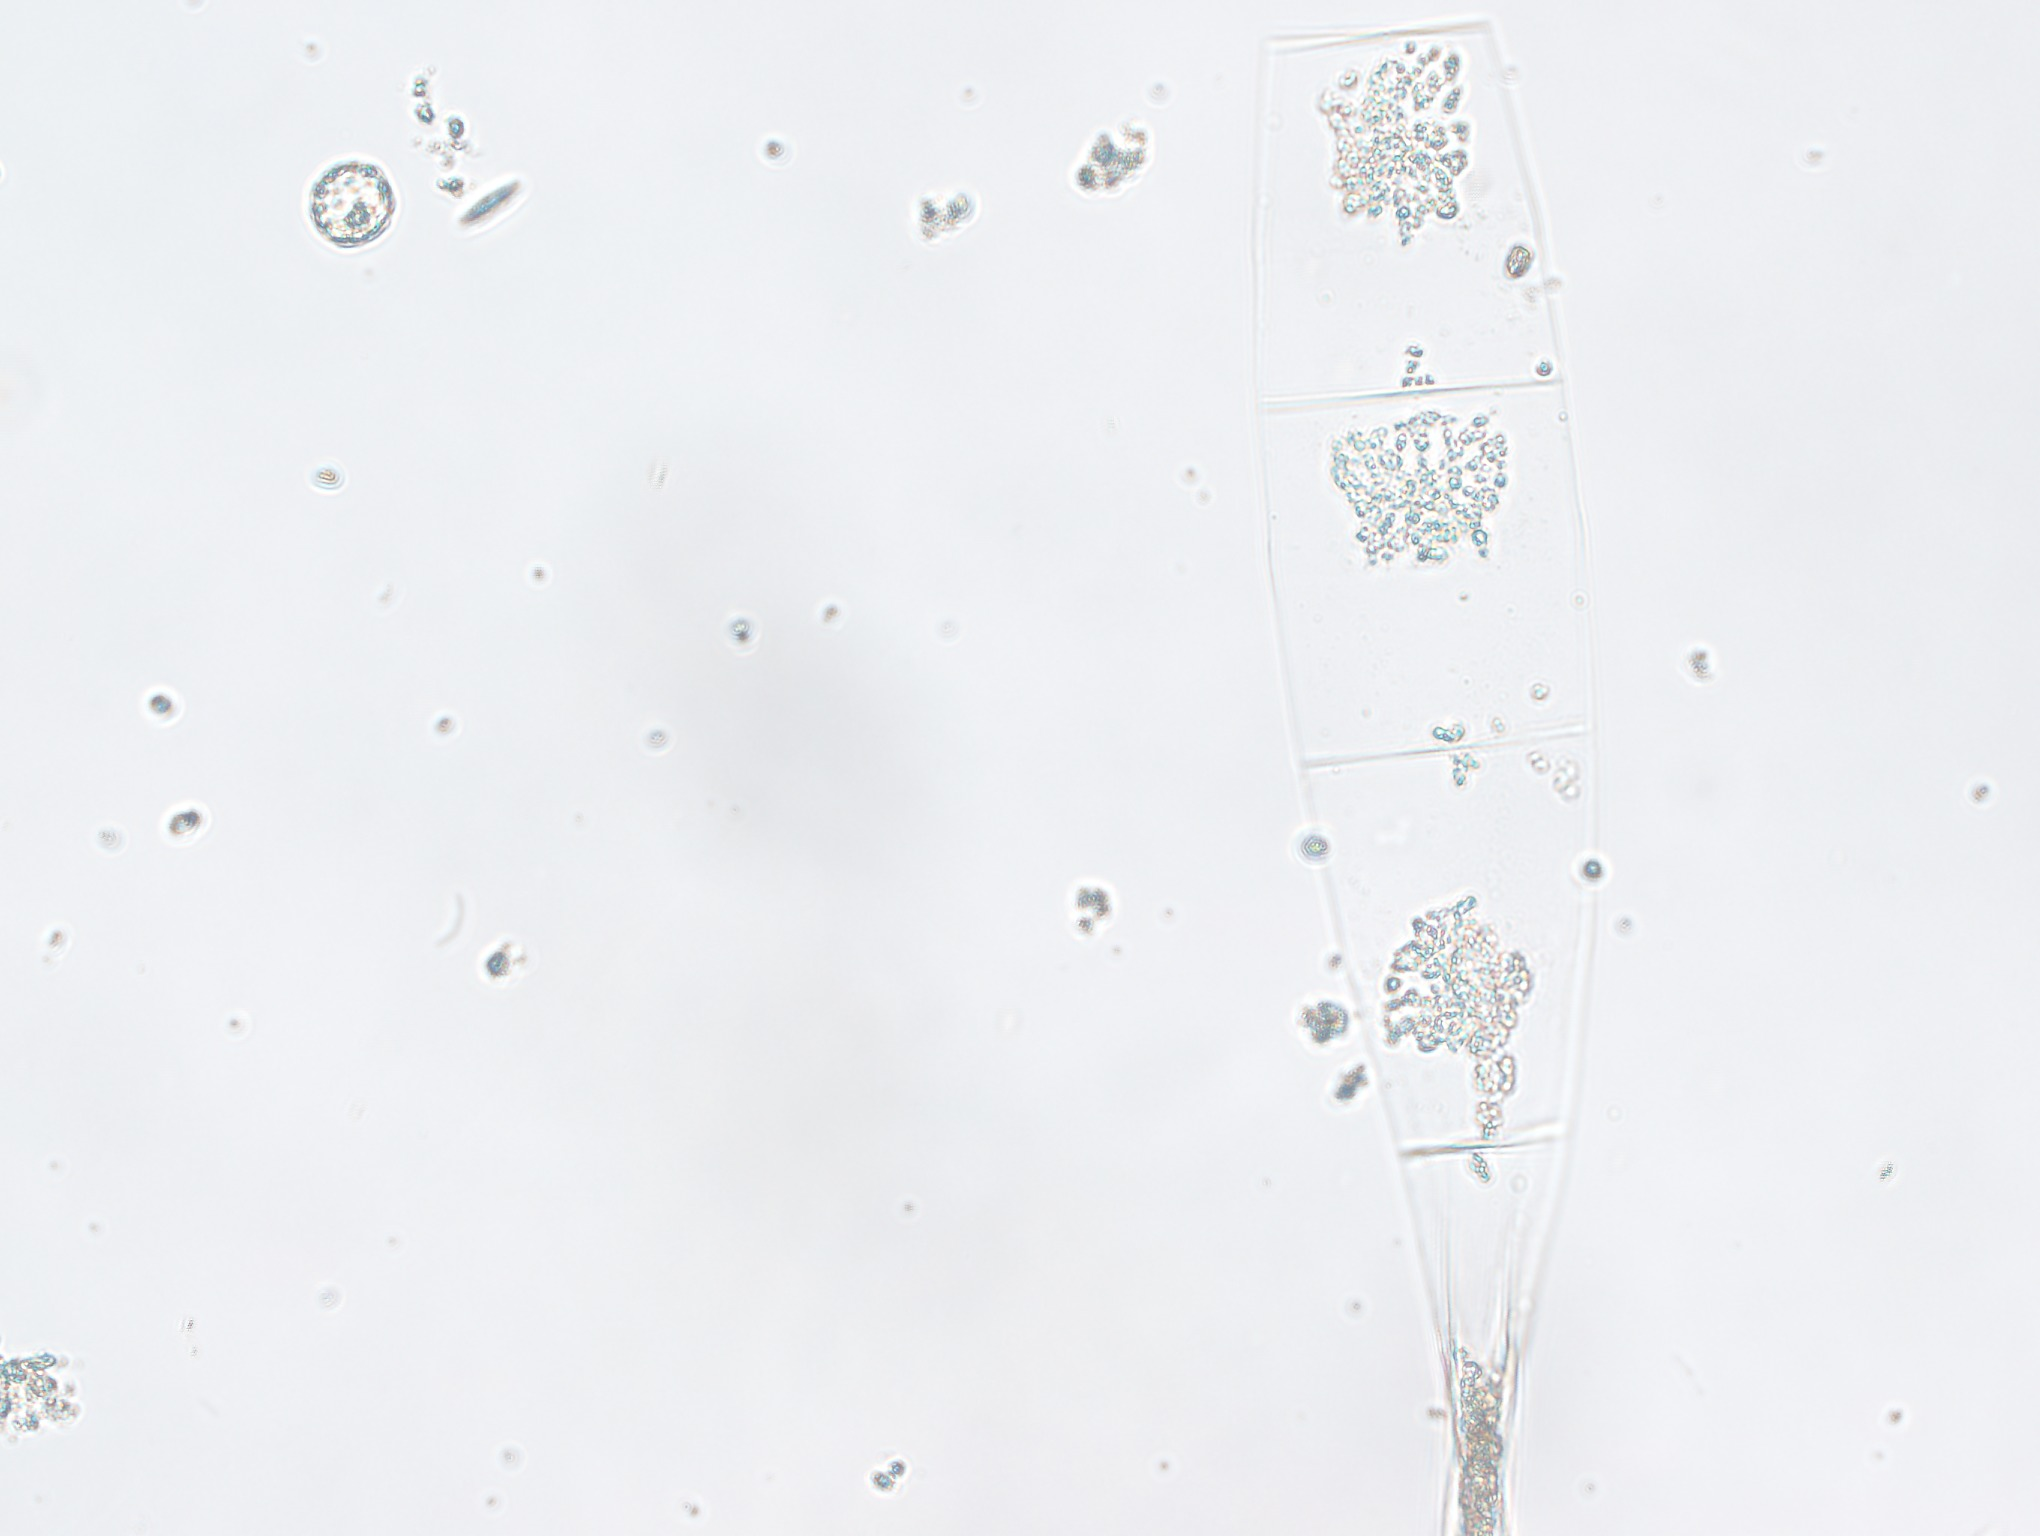helicotheca: (1205, 19, 1638, 1536)
